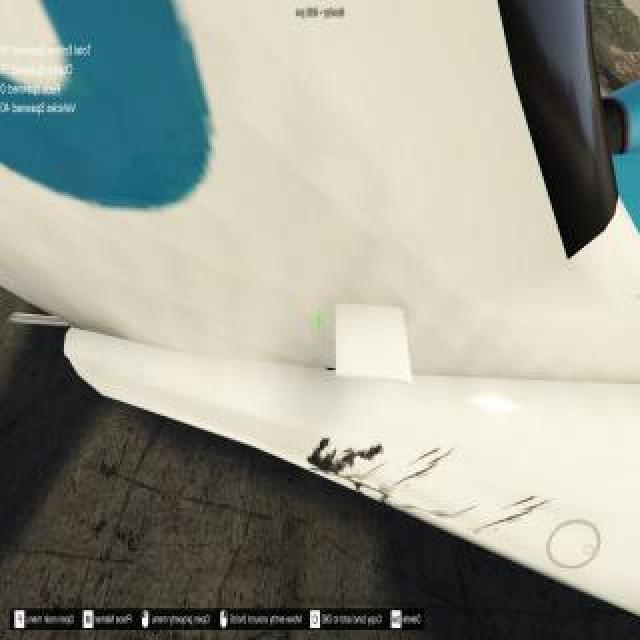dent: (308, 439, 356, 478), (356, 444, 381, 462)
